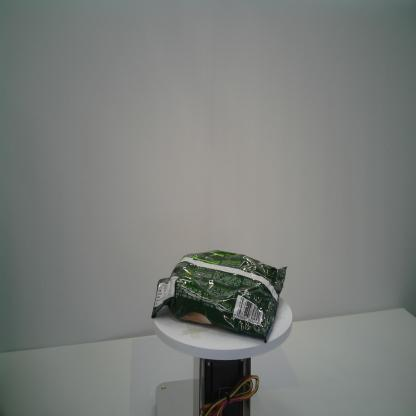Instant Noodles: (151, 249, 287, 346)
